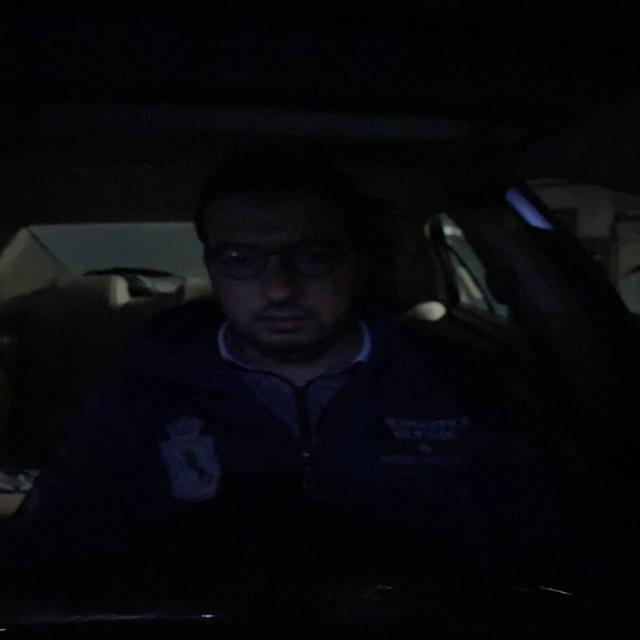person: (185, 154, 388, 358)
